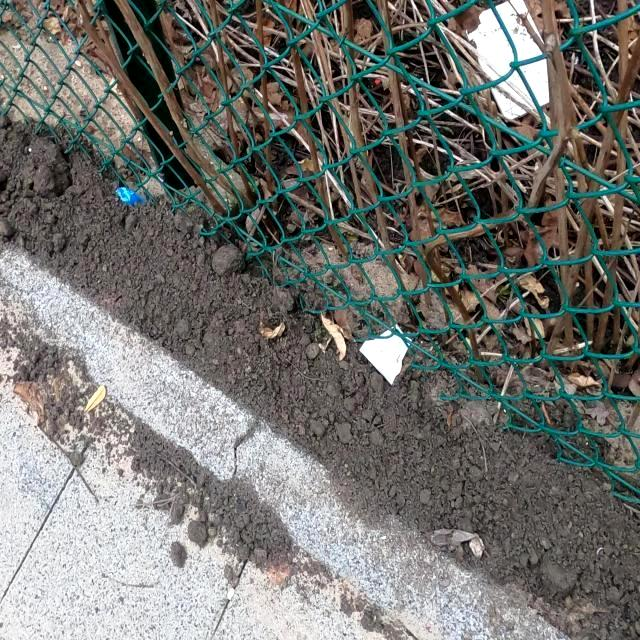Paper: (358, 322, 408, 386)
